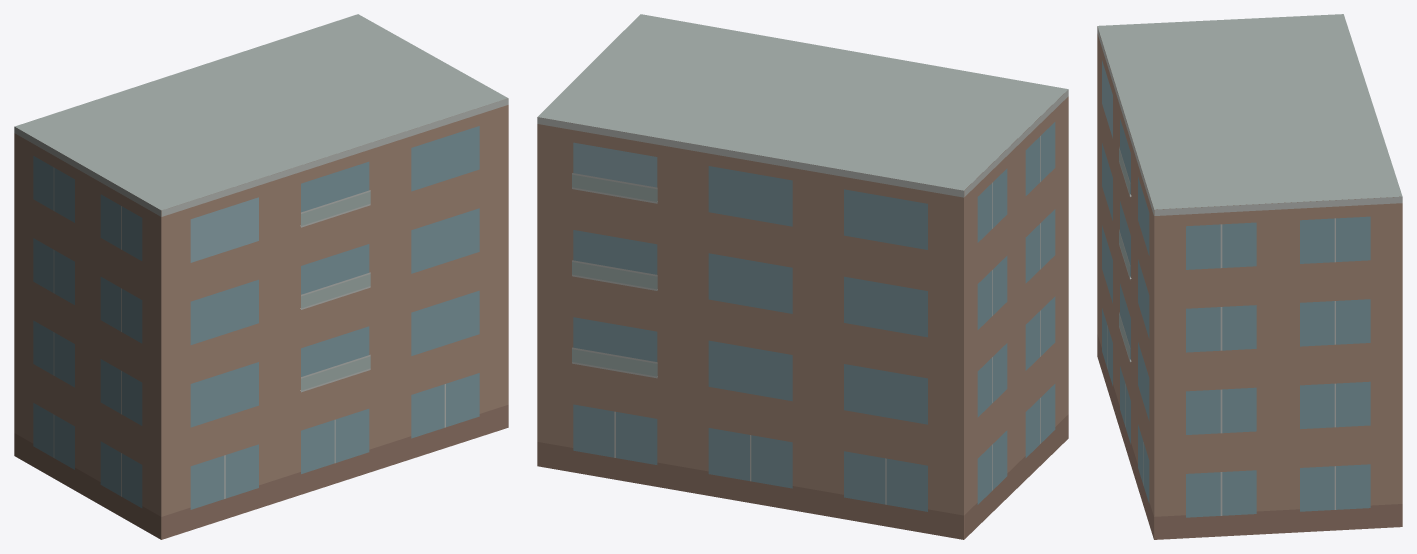
Rendered from survey-upis-32673171.glb.
The picture shows the model from 3 angles, left to right: view 1: azimuth 30°, elevation 25°; view 2: azimuth 150°, elevation 25°; view 3: azimuth 270°, elevation 25°; orthographic projection. The views are drawn at different scales.
Parts seen in each view (by area): view 1: survey-upis-32673171.tmp; view 2: survey-upis-32673171.tmp; view 3: survey-upis-32673171.tmp.
Part boxes in pixels (bbox=[...]): survey-upis-32673171.tmp: bbox=[14, 14, 508, 539]; survey-upis-32673171.tmp: bbox=[537, 14, 1068, 539]; survey-upis-32673171.tmp: bbox=[1097, 14, 1402, 539].
Size of the model in its own units: 15.63 by 12.3 by 10.31.
